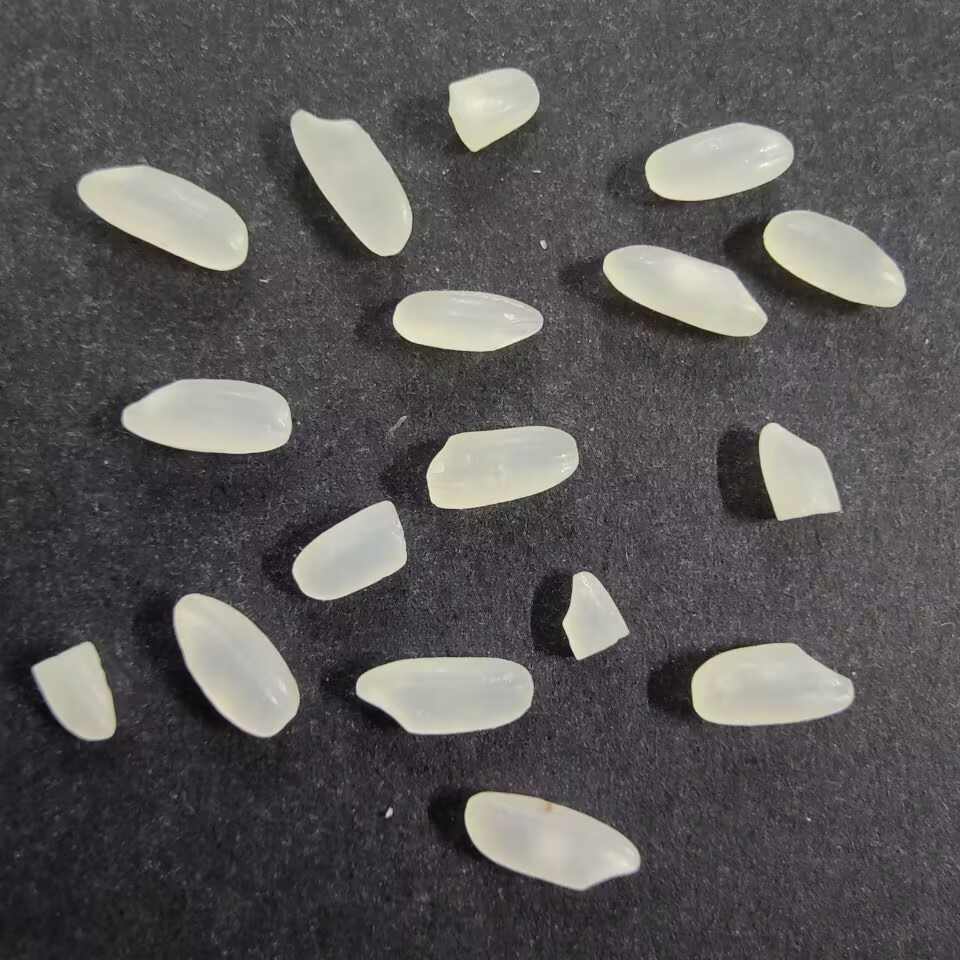broken: (289, 497, 411, 606), (23, 636, 118, 743), (753, 416, 845, 525), (442, 67, 546, 157), (557, 568, 632, 661)
rice: (72, 162, 255, 275), (286, 107, 418, 261), (170, 594, 306, 741), (460, 788, 646, 894), (346, 653, 538, 740), (600, 243, 770, 340), (116, 372, 294, 460), (686, 639, 857, 730), (761, 206, 911, 308), (424, 422, 581, 515), (641, 120, 801, 202), (388, 284, 549, 354)
